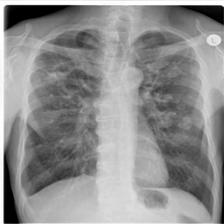tuberculosis: (17, 20, 218, 224)
